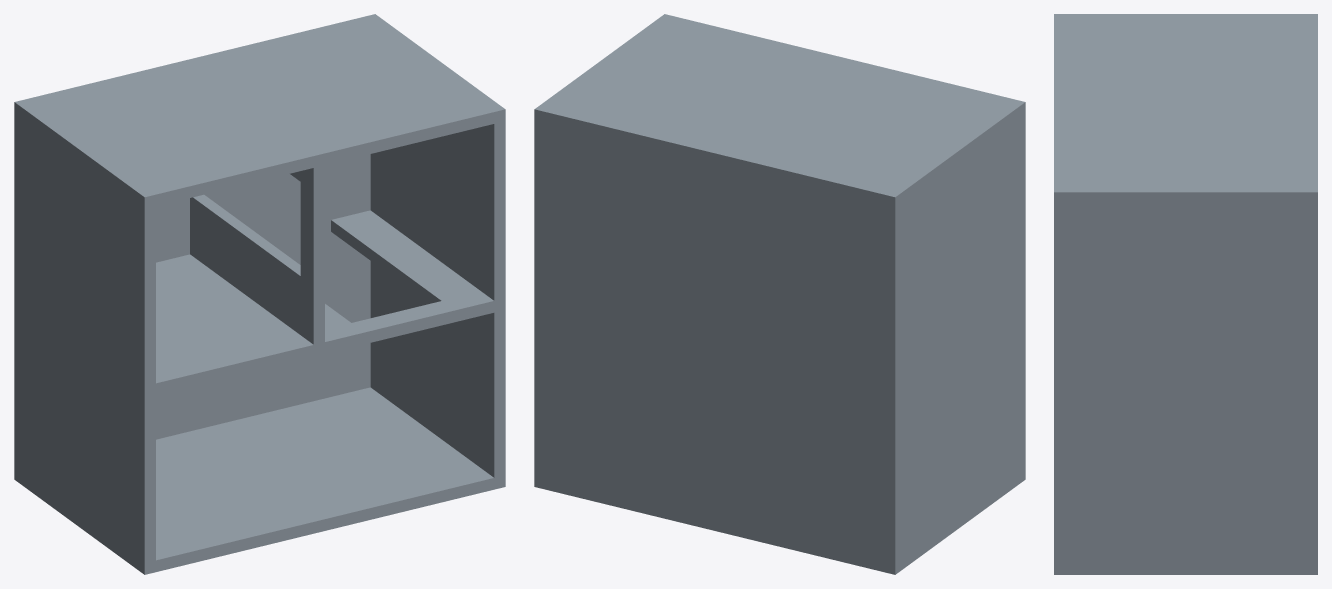
Rendered from Part Studio 1 - Part 1 (1).dae.
The picture shows the model from 3 angles, left to right: view 1: azimuth 30°, elevation 25°; view 2: azimuth 150°, elevation 25°; view 3: azimuth 270°, elevation 25°; orthographic projection.
Size of the model in its own units: 3.2 by 3.2 by 2.
